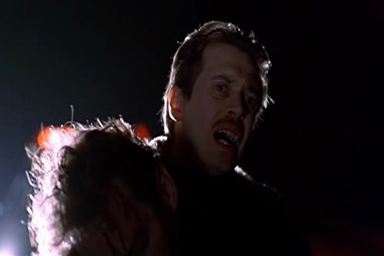cu: (1, 1, 384, 256)
face: (191, 56, 265, 170)
person: (149, 20, 313, 256)
